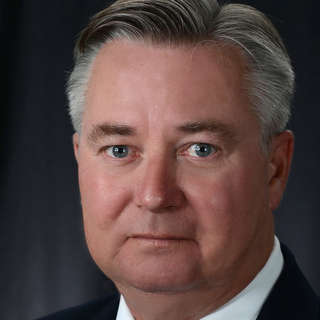eye: (94, 140, 146, 167), (172, 138, 225, 164)
